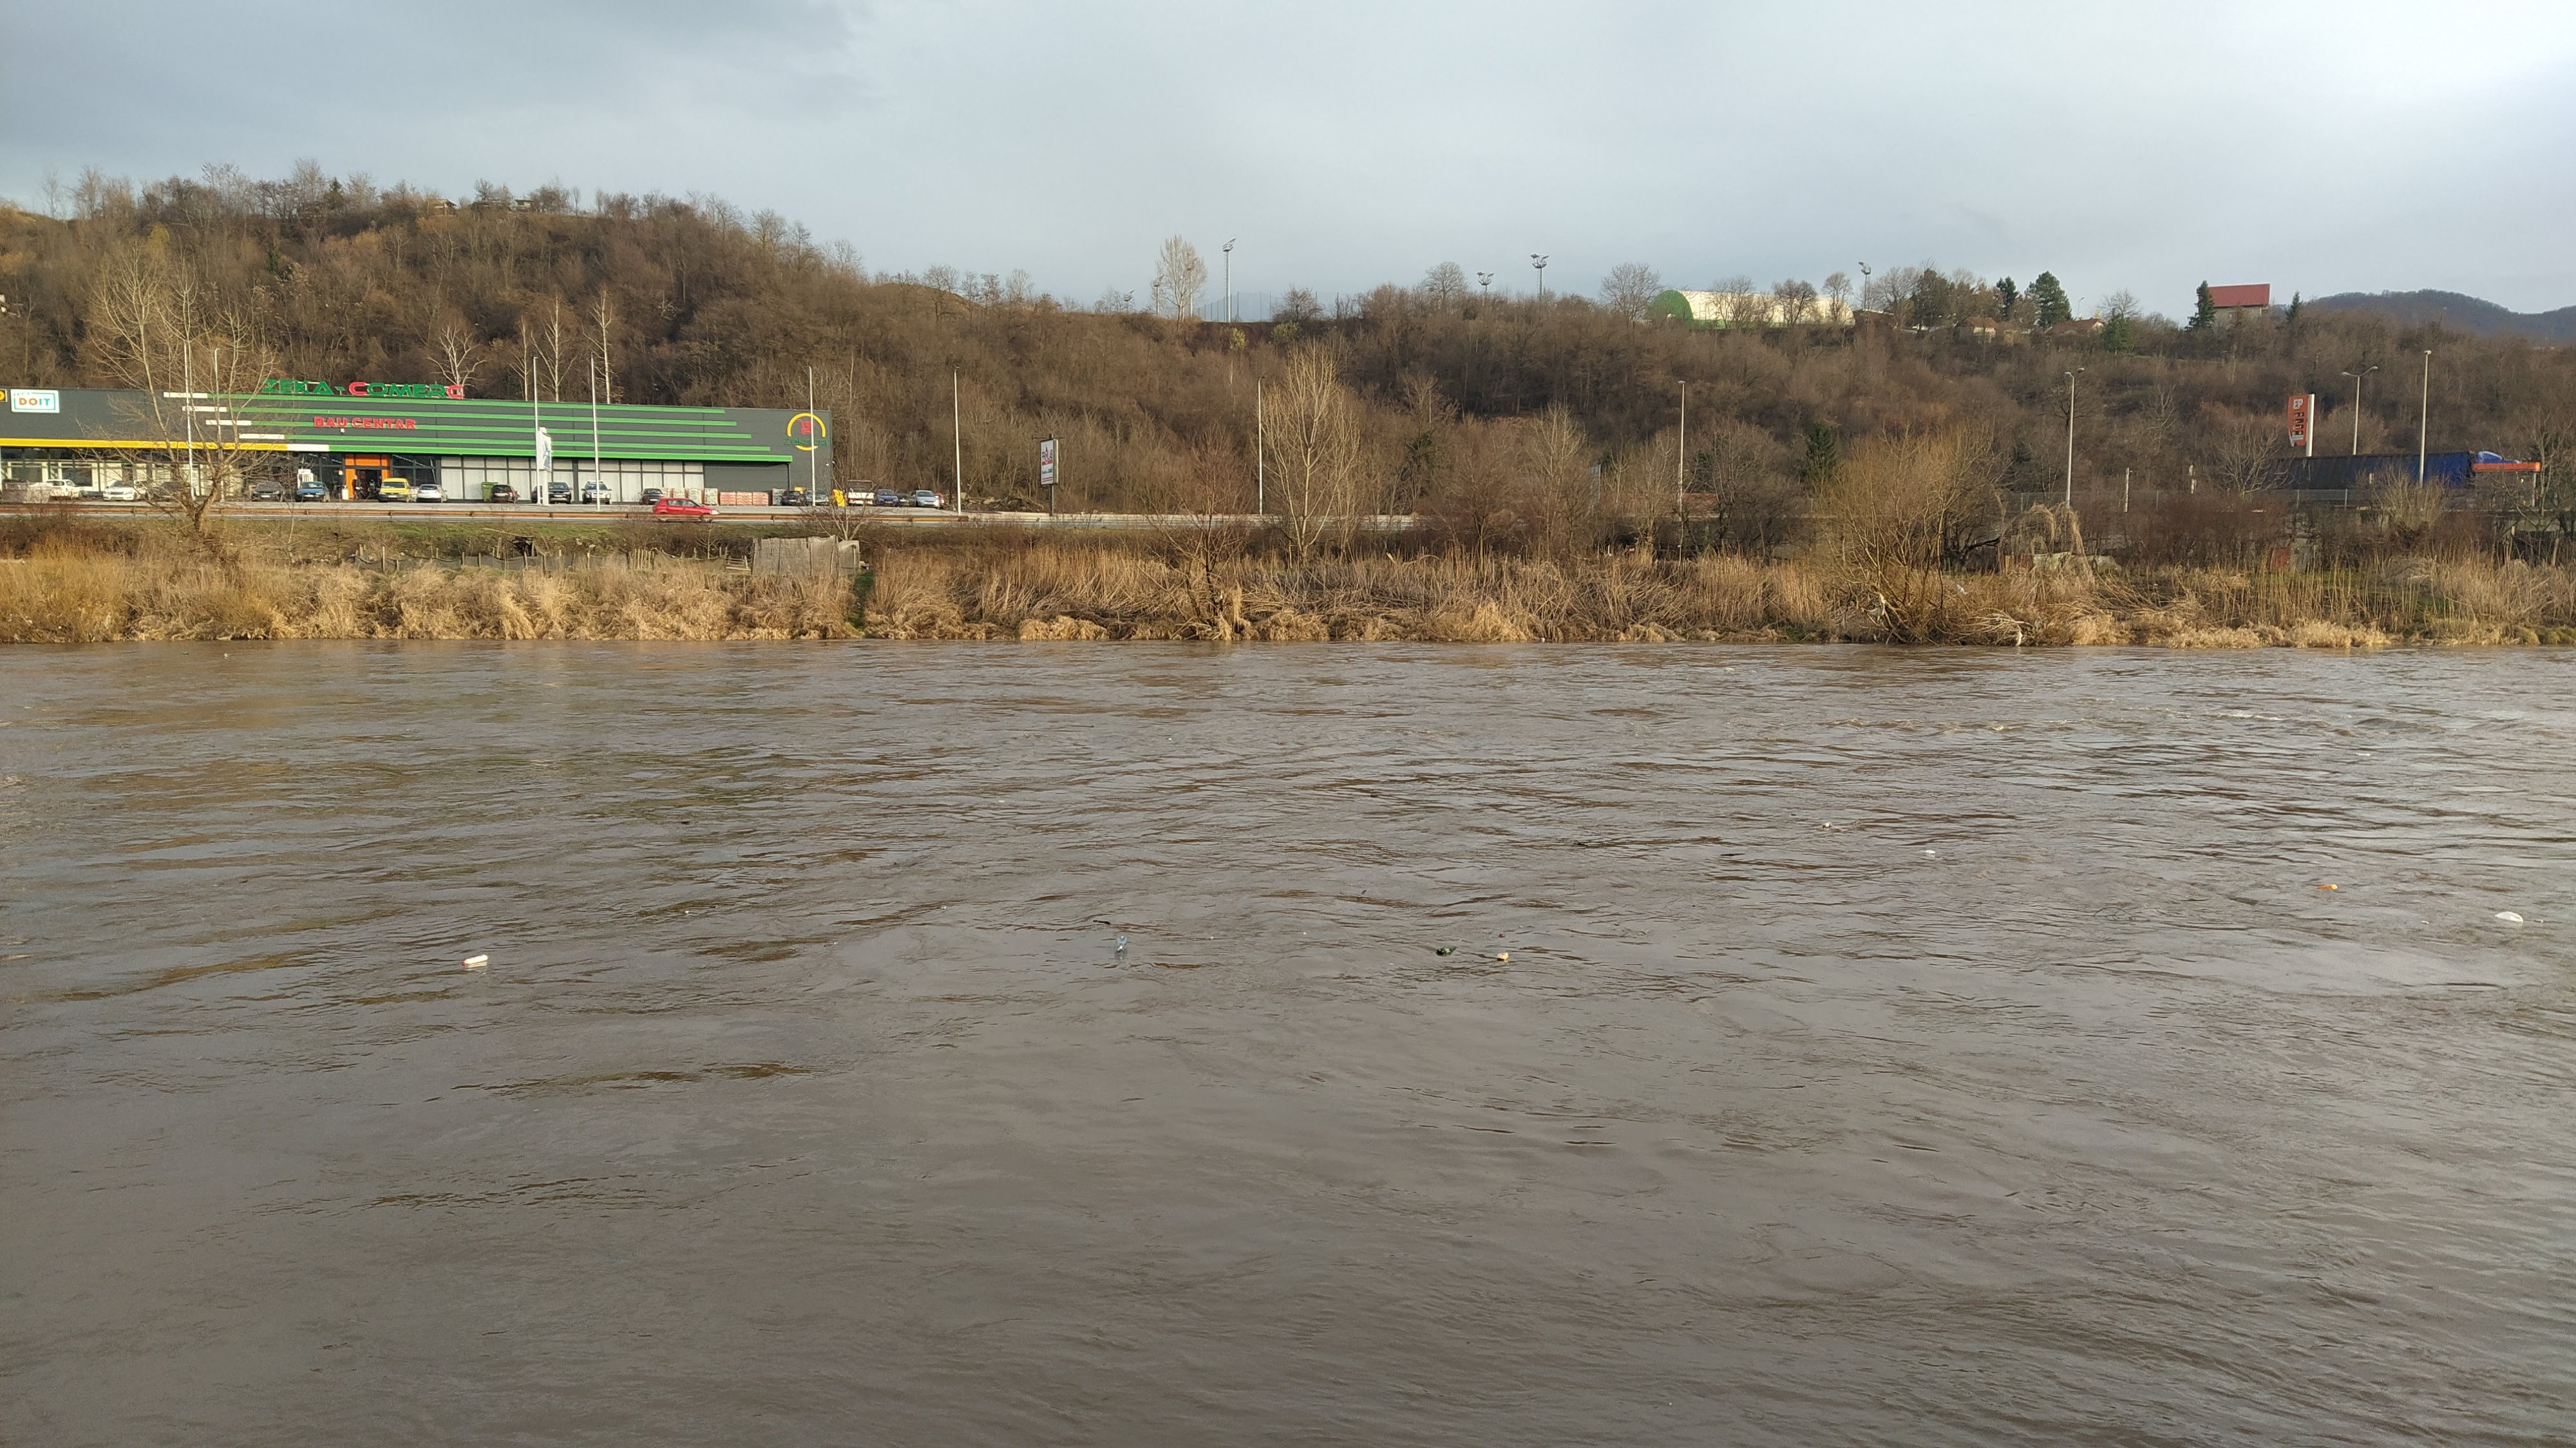Plastic Bottle: (2495, 910, 2523, 922), (462, 954, 488, 965), (1115, 936, 1127, 952), (1437, 945, 1456, 954), (2316, 883, 2337, 890), (1497, 952, 1509, 961), (2357, 752, 2371, 756), (1822, 821, 1831, 827), (1925, 850, 1934, 855), (1723, 667, 1734, 671), (182, 651, 188, 655), (225, 653, 226, 657)
